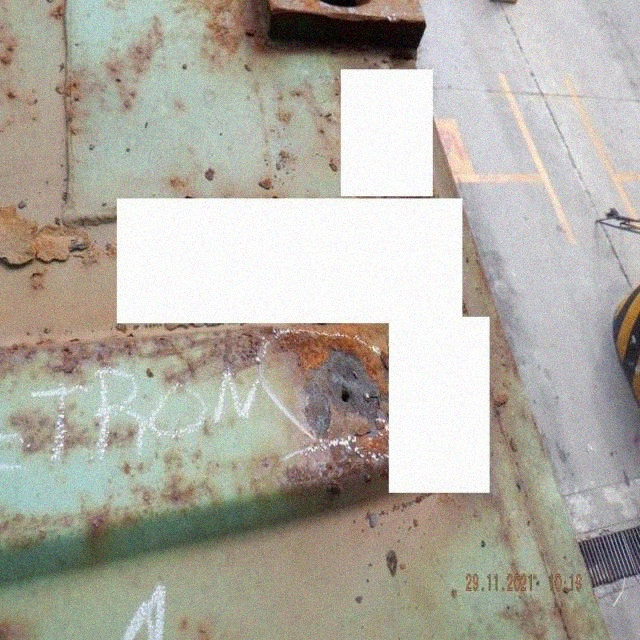Hole: (339, 385, 357, 406)
Rusty: (301, 348, 385, 445)
